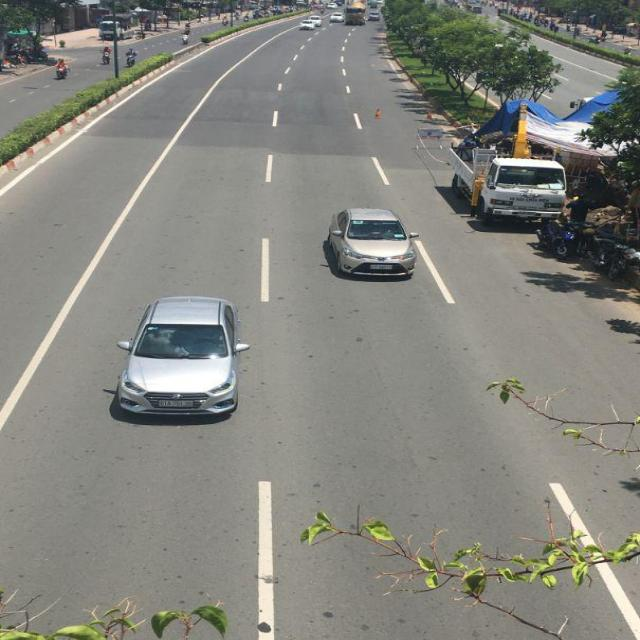car: (106, 297, 243, 424), (322, 207, 418, 281), (300, 19, 318, 32), (368, 10, 382, 22), (330, 13, 344, 25)
motorcycle: (54, 59, 70, 80), (101, 47, 110, 65)
truck: (438, 142, 568, 227), (99, 16, 122, 41), (346, 6, 366, 25)
